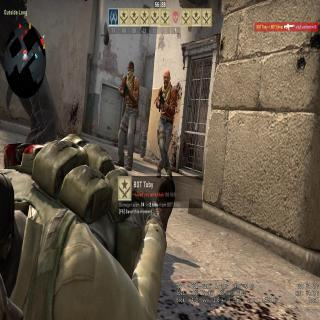T-Body: (113, 59, 140, 170), (153, 68, 175, 172)
T-Head: (163, 69, 170, 86), (128, 60, 132, 78)
